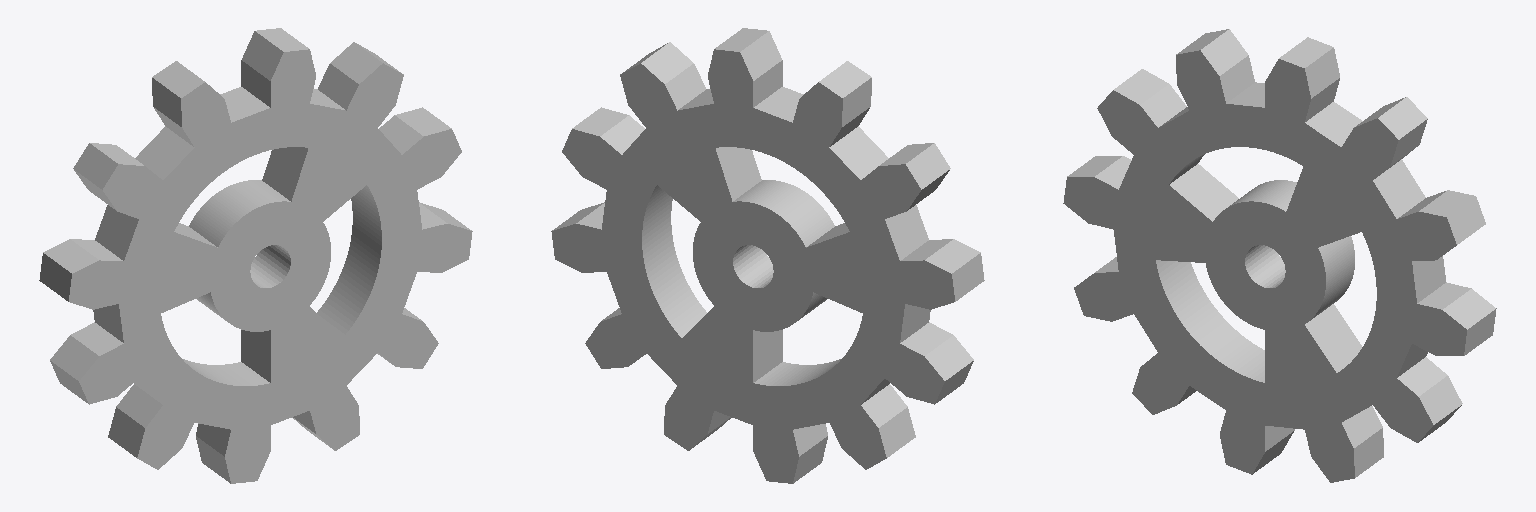
The model's file is gear8.obj.
3 views of the same model, side by side, from view 1: azimuth 30°, elevation 25°; view 2: azimuth 150°, elevation 25°; view 3: azimuth 330°, elevation 25° (orthographic).
Parts seen in each view (by area): view 1: Cogwheels-Driveunit.002; view 2: Cogwheels-Driveunit.002; view 3: Cogwheels-Driveunit.002.
Part boxes in pixels (bbox=[...]): Cogwheels-Driveunit.002: bbox=[39, 28, 472, 483]; Cogwheels-Driveunit.002: bbox=[551, 28, 984, 483]; Cogwheels-Driveunit.002: bbox=[1063, 29, 1496, 482].
Bounding box in the file's own units: 0.7251 × 0.7251 × 0.0908.